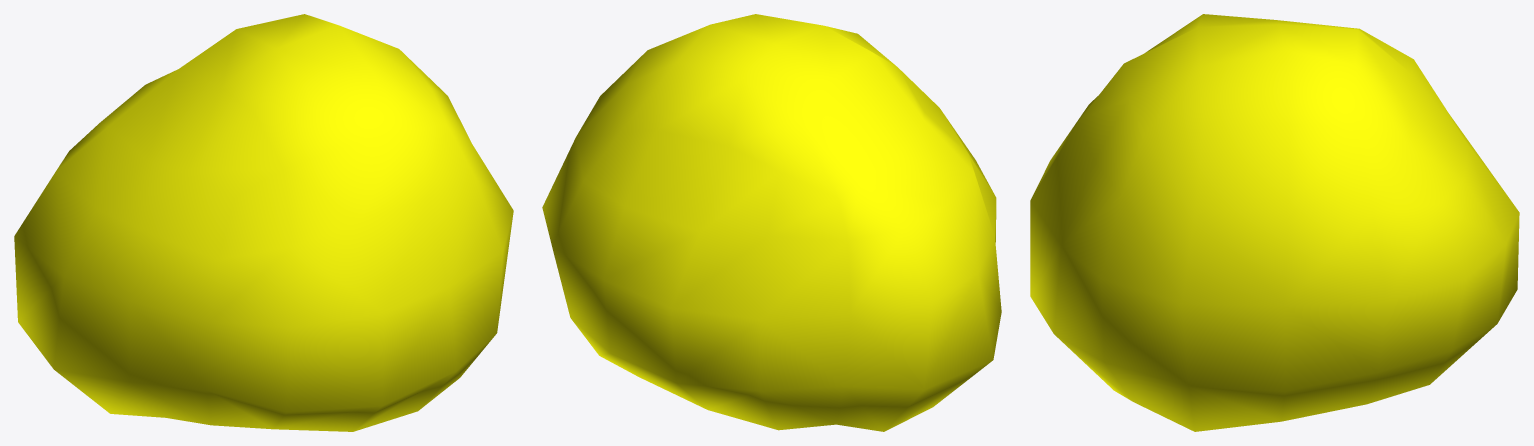
File: Props_Rocks_Rock_2_Rock2_Mid.glb
3 renders of one model, left to right at view 1: azimuth 30°, elevation 25°; view 2: azimuth 150°, elevation 25°; view 3: azimuth 270°, elevation 25°, orthographic. The views are drawn at different scales.
Visible parts, largest first — view 1: Rock2_High.001; view 2: Rock2_High.001; view 3: Rock2_High.001.
Boxes of the visible parts, x1=… form: Rock2_High.001: x1=14, y1=14, x2=513, y2=431; Rock2_High.001: x1=542, y1=14, x2=1001, y2=431; Rock2_High.001: x1=1030, y1=14, x2=1519, y2=431.
Size of the model in its own units: 1.65 by 1.32 by 1.61.
Materials: 1 (1 with a texture image).
